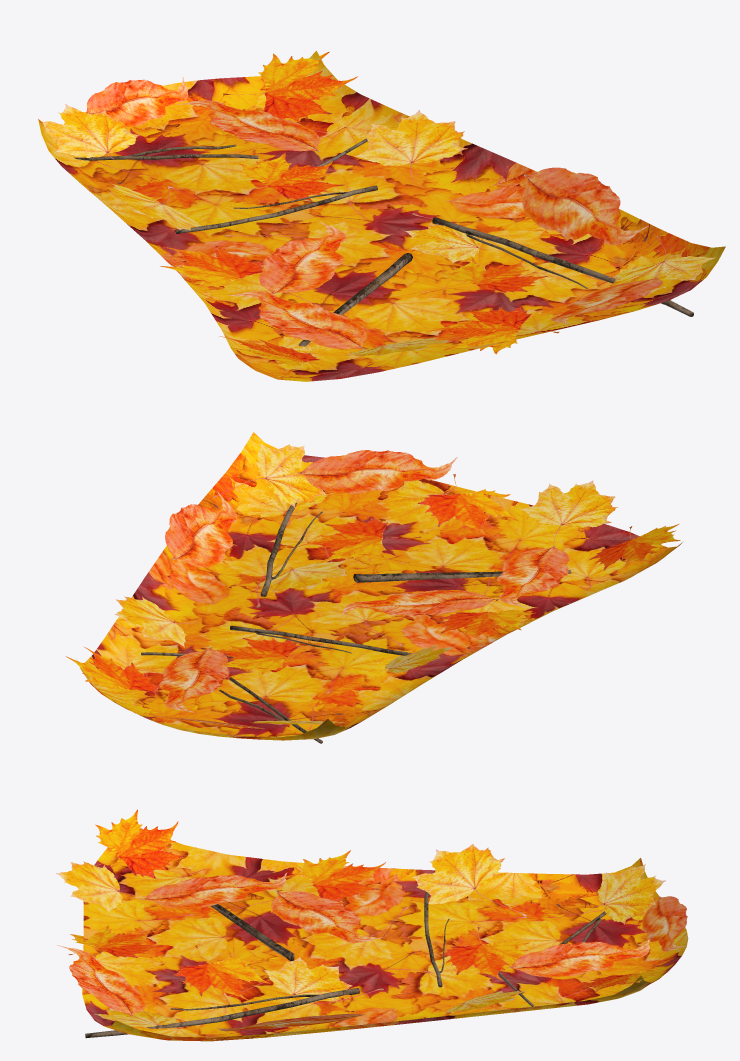
Rendered from Carreta_hojas_lvl1.fbx.
The picture shows the model from 3 angles, top to bottom: view 1: azimuth 30°, elevation 25°; view 2: azimuth 150°, elevation 25°; view 3: azimuth 270°, elevation 25°; orthographic projection. The views are drawn at different scales.
Visible parts, largest first — view 1: Lvl1, leaf3.002, leaf1.003, leaf3.004, leaf2.005, leaf3.003, leaf3.005, leaf4.002, leaf3.006, leaf2.001, leaf2.004, leaf2.006 (+11 smaller); view 2: Lvl1, leaf3.001, leaf3.002, leaf4.001, leaf3.005, leaf3.003, leaf1.001, leaf3.004, leaf2.001, leaf2.003, leaf1.003, leaf2.004 (+9 smaller); view 3: Lvl1, leaf1.004, leaf3.005, leaf3.004, leaf2.002, leaf3.003, leaf3.001, leaf4.002, leaf2.006, leaf1.002, leaf2.003, leaf2.004 (+10 smaller).
Part boxes in pixels (x1,y1,x2,y2): Lvl1: (38,51,725,381); leaf3.002: (521,167,648,245); leaf1.003: (355,110,467,181); leaf3.004: (259,221,346,293); leaf2.005: (223,51,357,122); leaf3.003: (227,291,367,349); leaf3.005: (176,100,320,151); leaf4.002: (41,104,140,168); leaf3.006: (86,76,188,127); leaf2.001: (427,306,559,354); leaf2.004: (231,152,344,200); leaf2.006: (160,245,267,292); Lvl1: (76,432,683,740); leaf3.001: (297,450,457,493); leaf3.002: (165,491,236,567); leaf4.001: (521,480,617,550); leaf3.005: (159,647,229,712); leaf3.003: (496,545,569,608); leaf1.001: (213,443,325,508); leaf3.004: (341,590,498,615); leaf2.001: (417,474,517,535); leaf2.003: (298,517,420,561); leaf1.003: (114,596,195,647); leaf2.004: (216,638,321,674); Lvl1: (82,818,688,1041); leaf1.004: (412,844,526,916); leaf3.005: (508,939,649,977); leaf3.004: (271,891,383,942); leaf2.002: (94,809,185,878); leaf3.003: (141,872,287,908); leaf3.001: (57,945,145,1016); leaf4.002: (582,864,665,924); leaf2.006: (277,850,385,902); leaf1.002: (264,957,352,1001); leaf2.003: (173,945,270,1000); leaf2.004: (439,927,529,980).
Size of the model in its own units: 63.74 by 10.06 by 79.79.
